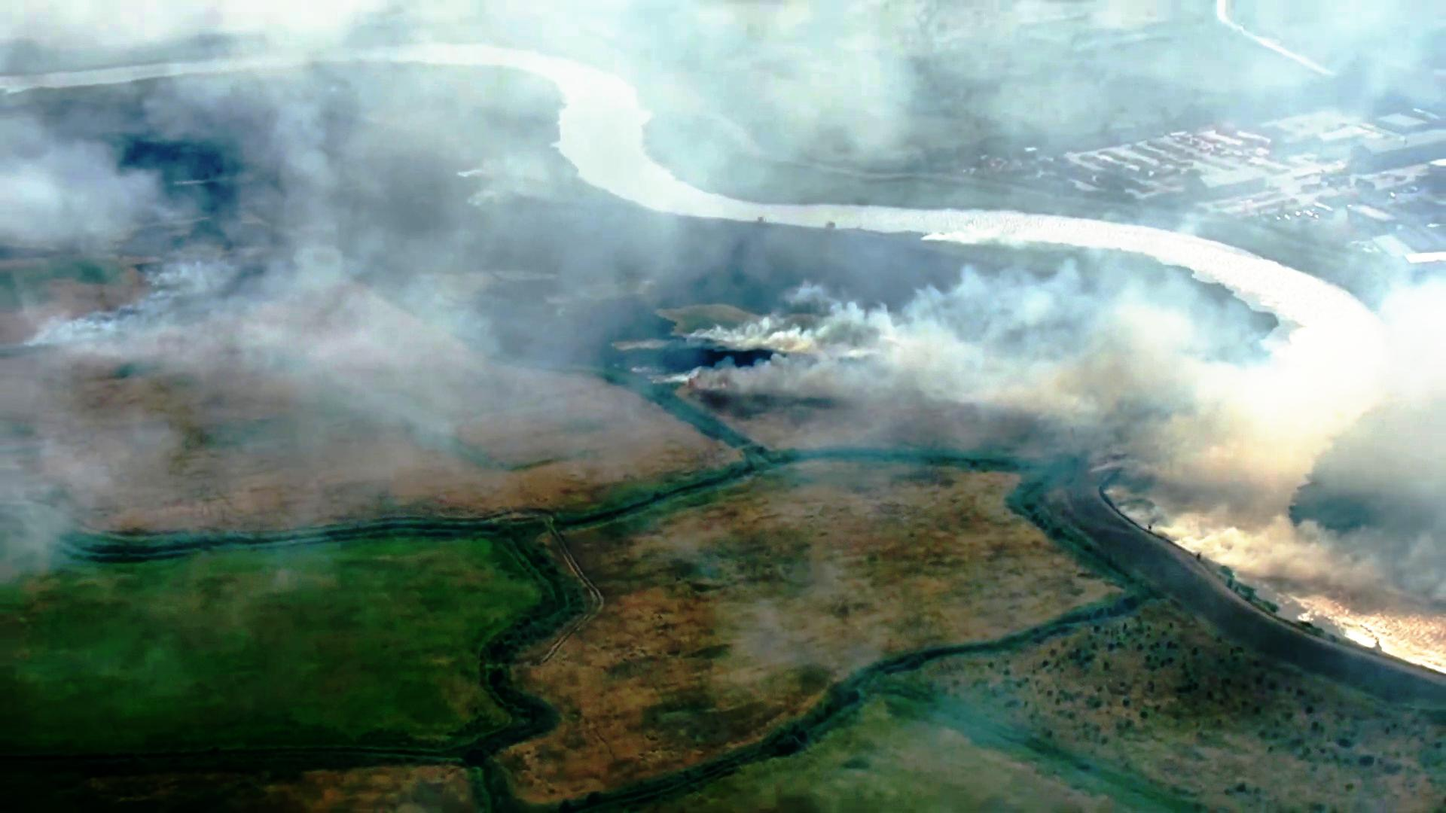smoke: (1159, 374, 1368, 509)
